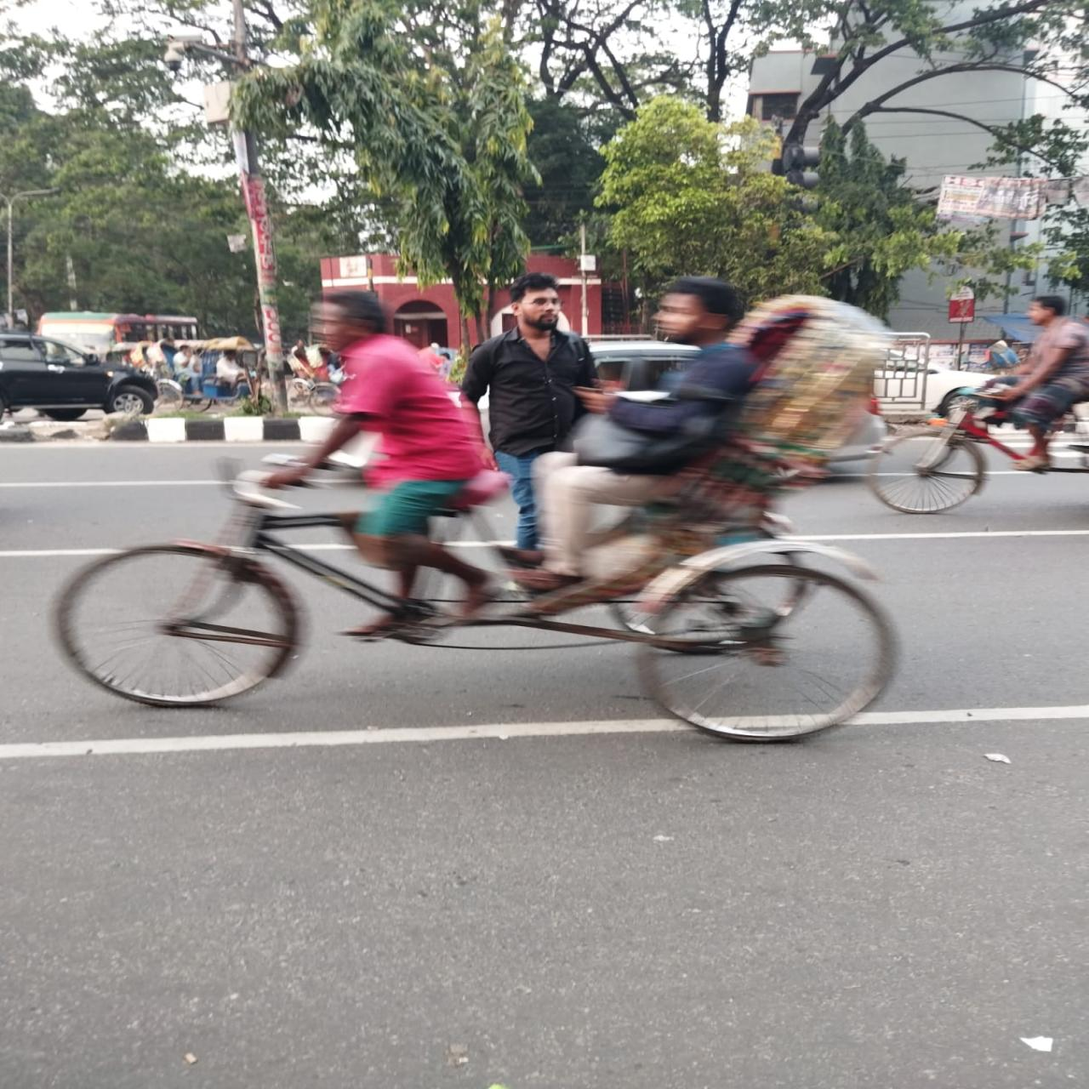person: (457, 270, 603, 457)
